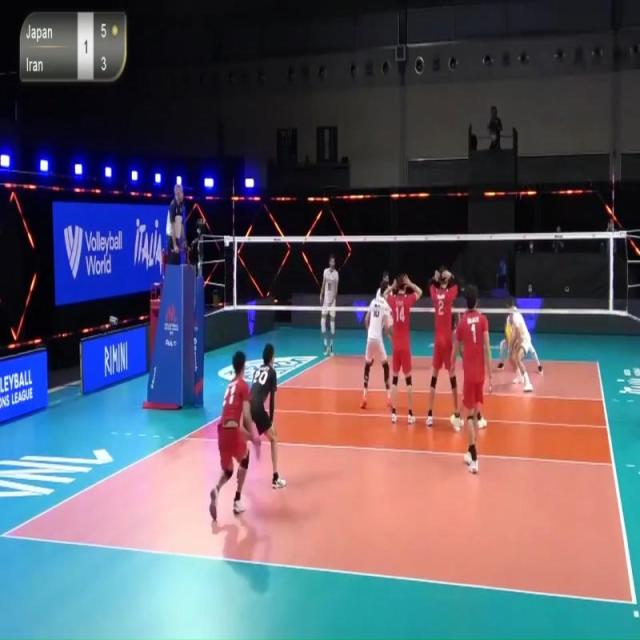volleyball: (504, 324, 514, 344)
